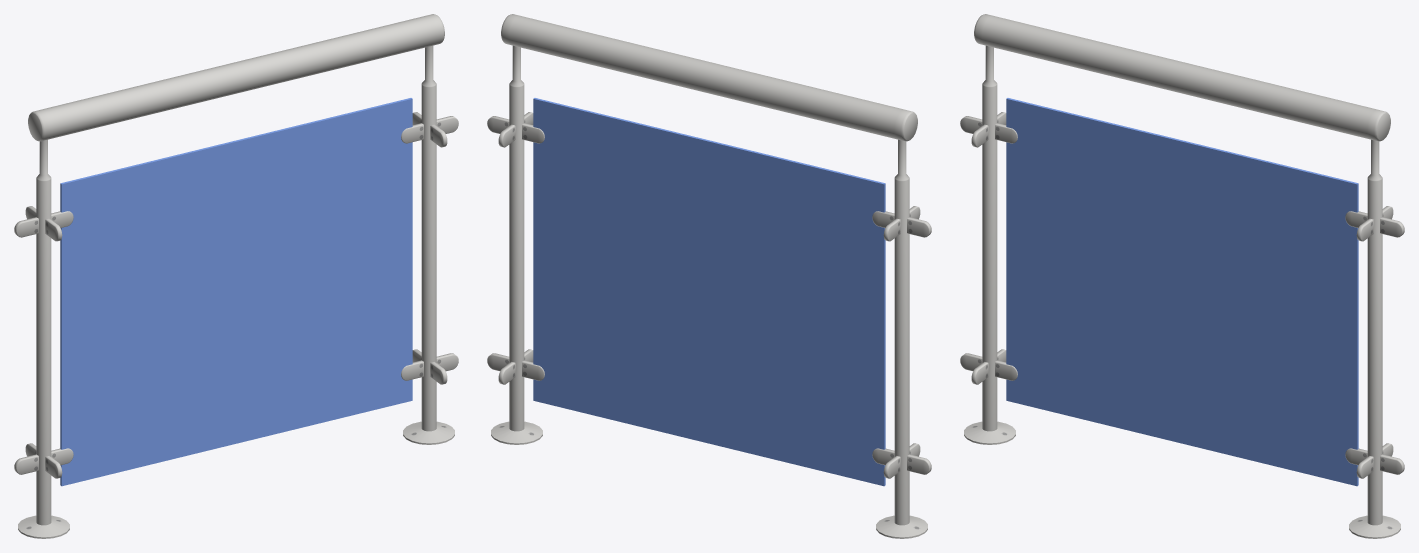
File: Barrier01_1.FBX
The picture shows the model from 3 angles, left to right: view 1: azimuth 30°, elevation 25°; view 2: azimuth 150°, elevation 25°; view 3: azimuth 330°, elevation 25°; orthographic projection.
Visible parts, largest first — view 1: Glass, Top, Left, Right, Left1, Right2, Right1, TopLeft, Left2, Right3, Left3; view 2: Glass, Top, Left, Right, Left1, Right2, Right1, TopLeft, Left2, Right4, Left4; view 3: Glass, Top, Right, Left, Right1, Left2, Left1, TopRight, Right2, Left3, Right3.
Part boxes in pixels (x1=…): Glass: x1=60, y1=98, x2=412, y2=486; Top: x1=42, y1=15, x2=436, y2=139; Left: x1=18, y1=139, x2=69, y2=538; Right: x1=403, y1=45, x2=454, y2=444; Left1: x1=14, y1=217, x2=38, y2=474; Right2: x1=401, y1=123, x2=423, y2=380; Right1: x1=436, y1=116, x2=458, y2=371; TopLeft: x1=28, y1=109, x2=51, y2=141; Left2: x1=51, y1=211, x2=73, y2=465; Right3: x1=430, y1=124, x2=447, y2=384; Left3: x1=45, y1=218, x2=62, y2=478; Glass: x1=533, y1=98, x2=885, y2=486; Top: x1=509, y1=15, x2=903, y2=139; Left: x1=876, y1=139, x2=927, y2=538; Right: x1=491, y1=45, x2=542, y2=444; Left1: x1=907, y1=217, x2=931, y2=474; Right2: x1=522, y1=123, x2=544, y2=380; Right1: x1=487, y1=116, x2=509, y2=371; TopLeft: x1=894, y1=109, x2=917, y2=141; Left2: x1=872, y1=211, x2=894, y2=465; Right4: x1=498, y1=124, x2=515, y2=384; Left4: x1=883, y1=218, x2=900, y2=478; Glass: x1=1006, y1=98, x2=1358, y2=486; Top: x1=982, y1=15, x2=1376, y2=139; Right: x1=1349, y1=139, x2=1400, y2=538; Left: x1=964, y1=45, x2=1015, y2=444; Right1: x1=1380, y1=217, x2=1404, y2=474; Left2: x1=995, y1=123, x2=1017, y2=380; Left1: x1=960, y1=116, x2=982, y2=371; TopRight: x1=1367, y1=109, x2=1390, y2=141; Right2: x1=1345, y1=211, x2=1367, y2=465; Left3: x1=971, y1=124, x2=988, y2=384; Right3: x1=1356, y1=218, x2=1373, y2=478.
Size of the model in its own units: 115 by 103 by 14.93.
